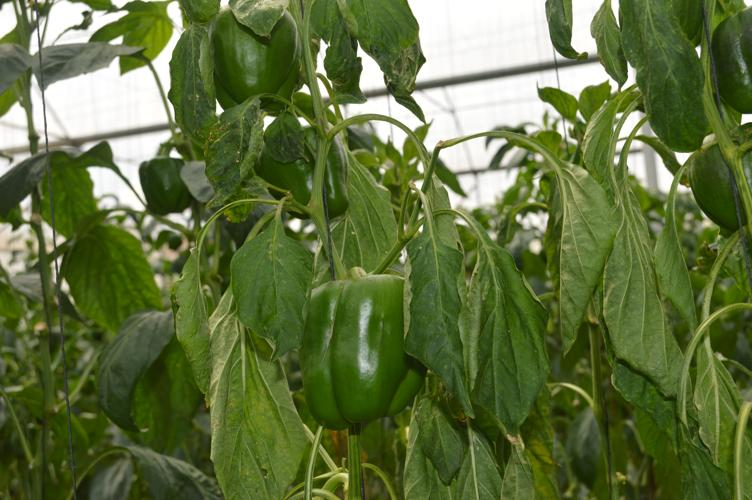BellPepper: (295, 276, 425, 432), (206, 15, 301, 116), (265, 124, 345, 219), (686, 143, 748, 229), (707, 7, 749, 115), (138, 156, 189, 219)
